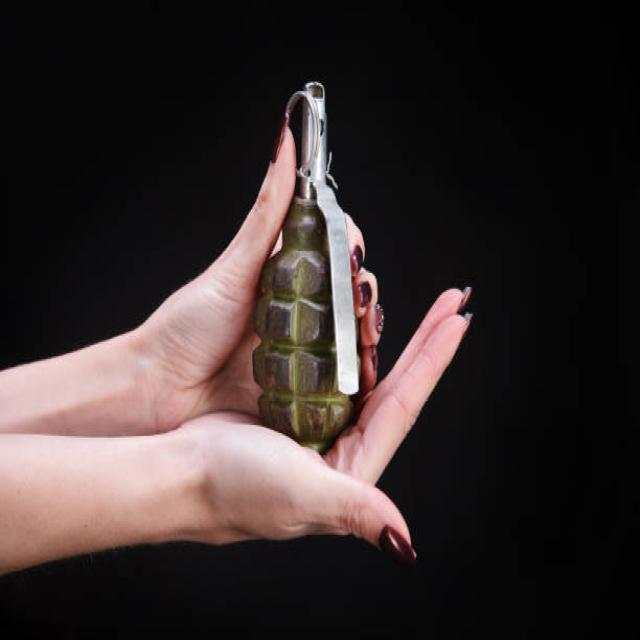grenade: (251, 73, 363, 455)
